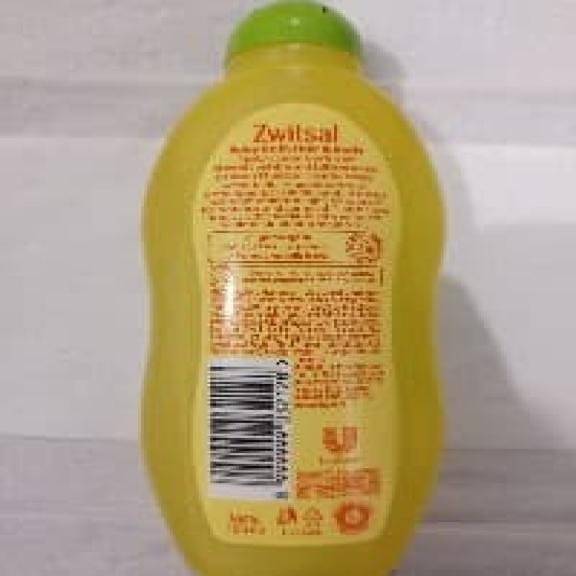Plastik: (143, 0, 443, 574)
